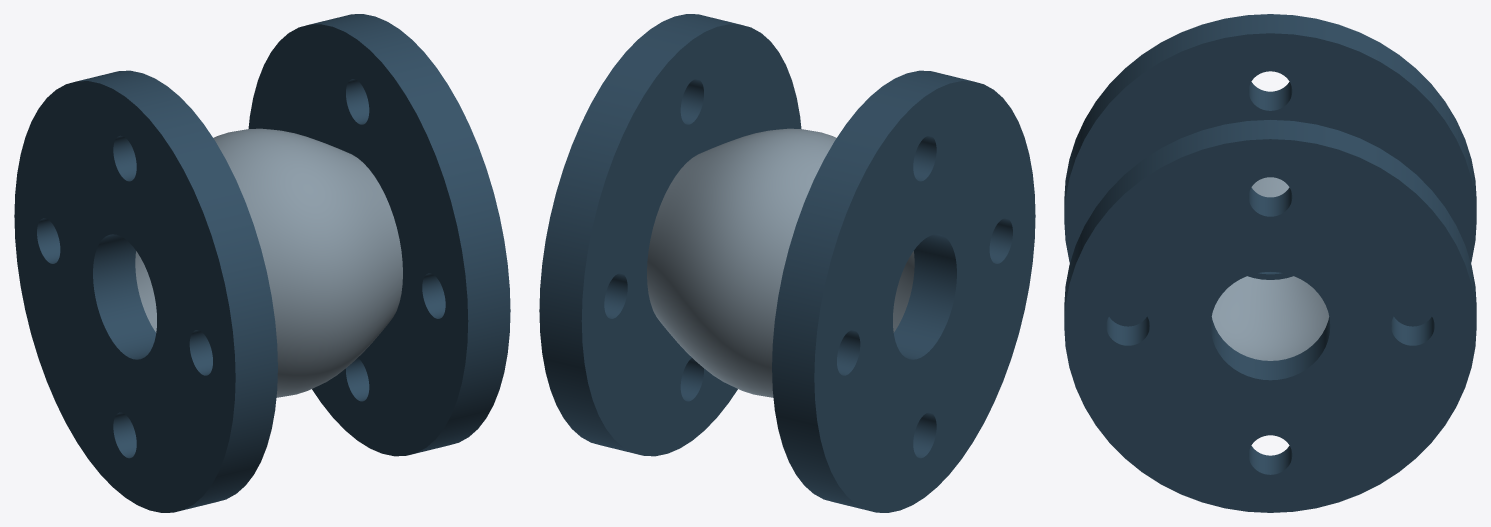
3 renders of one model, left to right at view 1: azimuth 30°, elevation 25°; view 2: azimuth 150°, elevation 25°; view 3: azimuth 270°, elevation 25°, orthographic. The views are drawn at different scales.
Parts seen in each view (by area): view 1: homut_flanec_1, homut_flanec_2, rebro_vstavka_rezina; view 2: homut_flanec_1, homut_flanec_2, rebro_vstavka_rezina; view 3: homut_flanec_2, homut_flanec_1, rebro_vstavka_rezina.
Boxes of the visible parts, left/top/right/bottom form: homut_flanec_1: left=14, top=70, right=277, bottom=512; homut_flanec_2: left=248, top=14, right=510, bottom=456; rebro_vstavka_rezina: left=135, top=128, right=402, bottom=397; homut_flanec_1: left=772, top=70, right=1035, bottom=512; homut_flanec_2: left=539, top=14, right=801, bottom=456; rebro_vstavka_rezina: left=647, top=128, right=914, bottom=397; homut_flanec_2: left=1064, top=120, right=1476, bottom=512; homut_flanec_1: left=1064, top=14, right=1476, bottom=326; rebro_vstavka_rezina: left=1211, top=177, right=1329, bottom=360.
Size of the model in its own units: 95 by 132 by 132.
